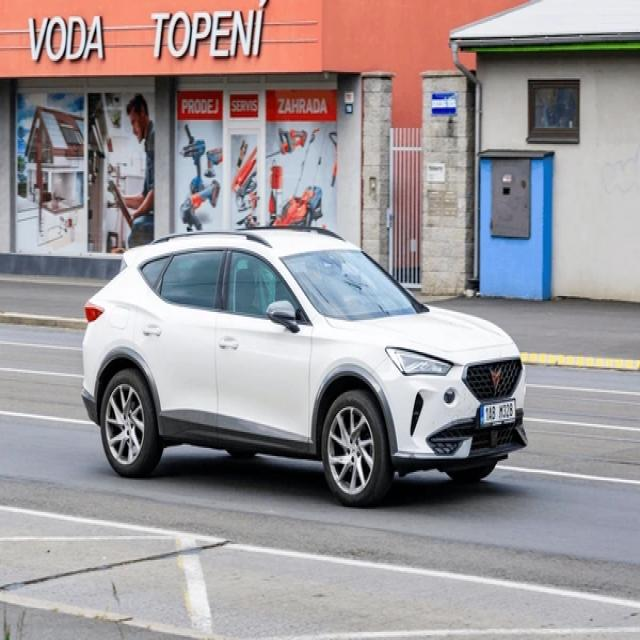cupra: (490, 364, 502, 394)
